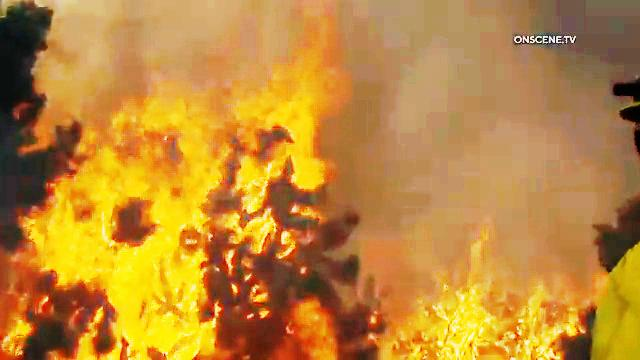fire: (53, 47, 314, 324)
